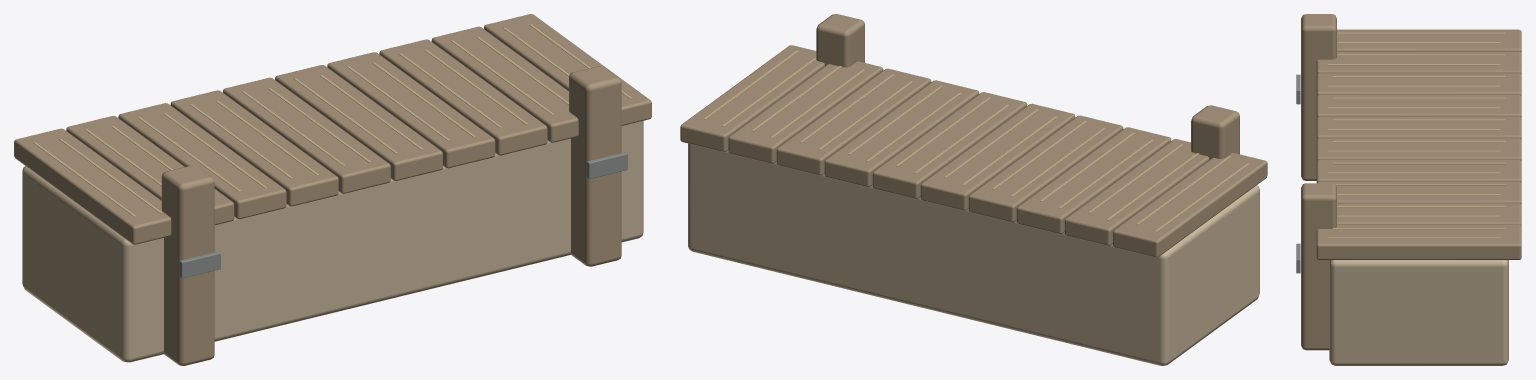
File: coastal-saltworks-and-trade-port-coastal-saltworks-and-8639e73b__31404.glb
3 renders of one model, left to right at view 1: azimuth 30°, elevation 25°; view 2: azimuth 150°, elevation 25°; view 3: azimuth 270°, elevation 25°, orthographic. The views are drawn at different scales.
Parts seen in each view (by area): view 1: coastal-saltworks-and-trade-port-quay-edge-straight; view 2: coastal-saltworks-and-trade-port-quay-edge-straight; view 3: coastal-saltworks-and-trade-port-quay-edge-straight.
Boxes of the visible parts, box(x1,y1,x2,y2) form: coastal-saltworks-and-trade-port-quay-edge-straight: box(14, 14, 651, 365); coastal-saltworks-and-trade-port-quay-edge-straight: box(680, 14, 1267, 365); coastal-saltworks-and-trade-port-quay-edge-straight: box(1296, 14, 1521, 365).
Bounding box in the file's own units: 2 × 0.6699 × 0.879.
